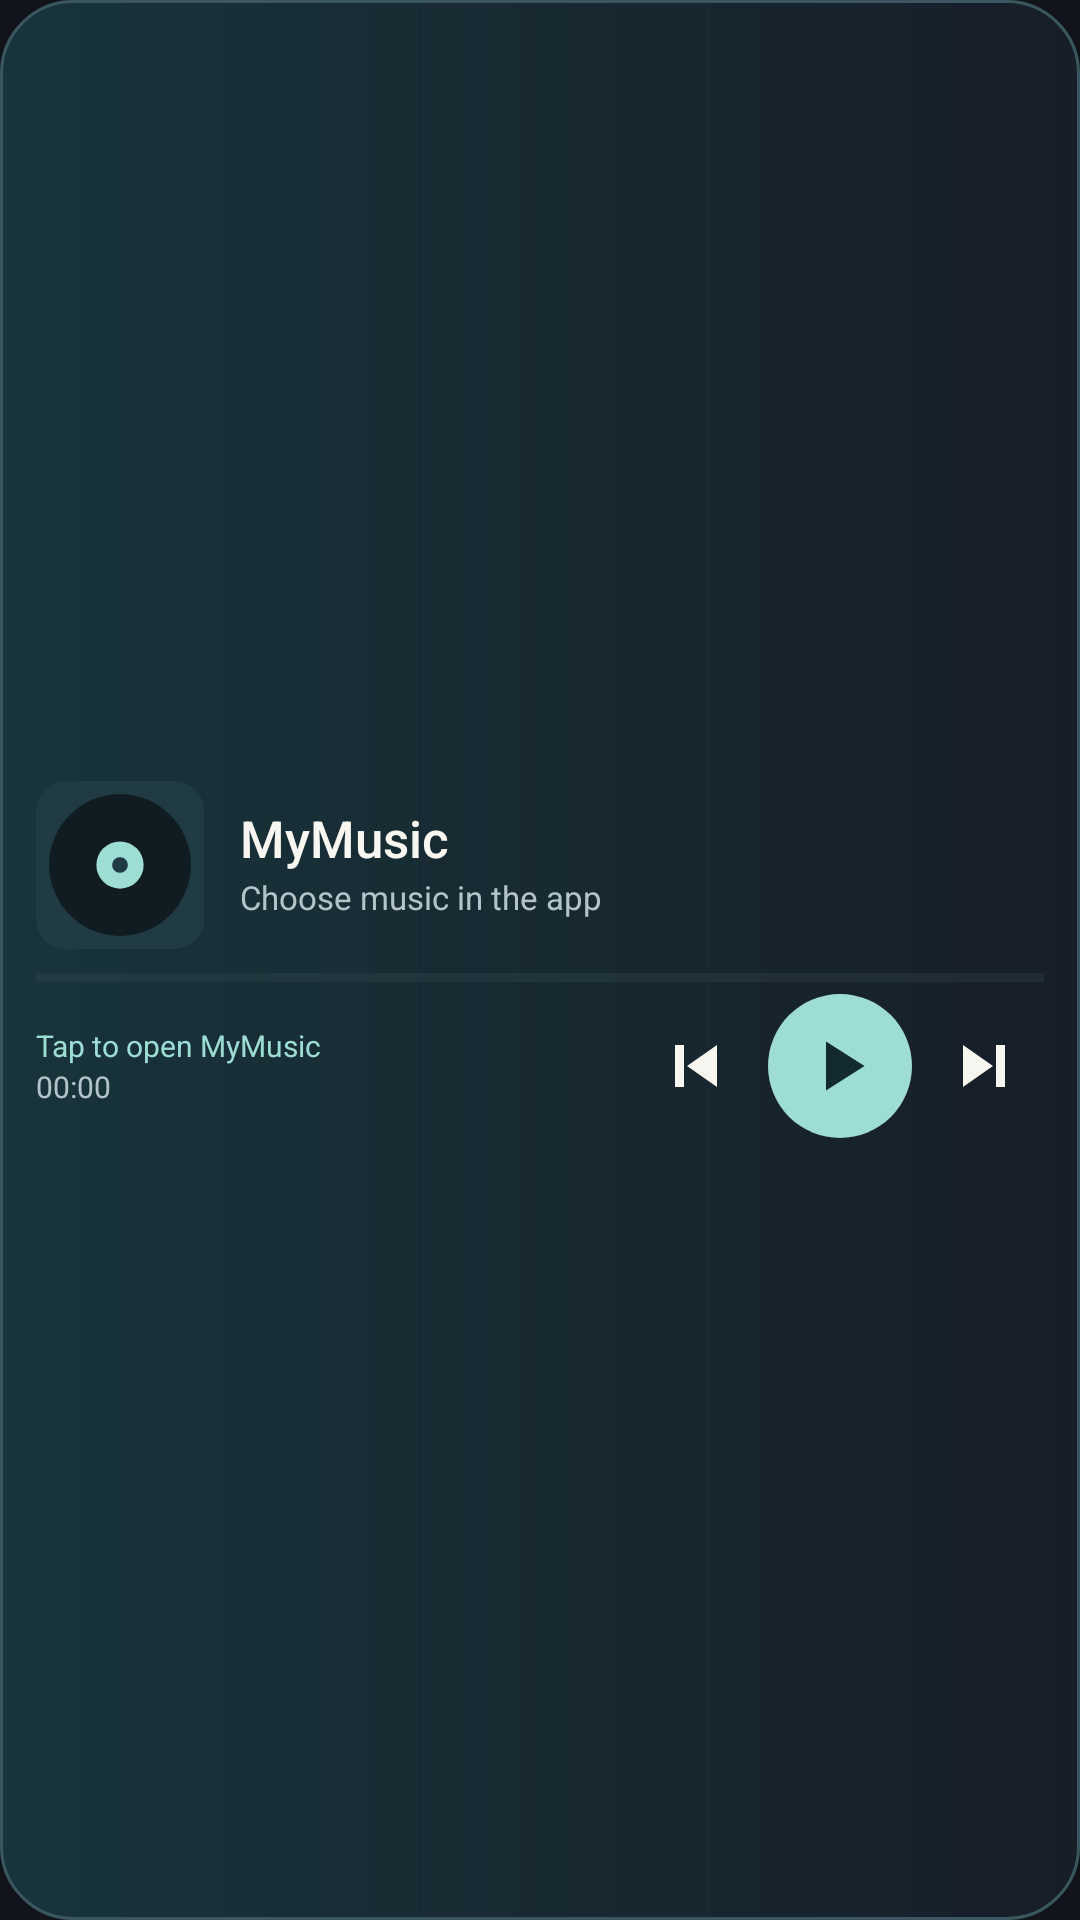

Named icons in this screenshot (1080px x 1920px) and their bounding boxes, region(x1, y1, x2, y2):
Album artwork: region(36, 781, 204, 949)
Next: region(963, 1045, 1005, 1087)
Play or pause: region(768, 994, 912, 1138)
Previous: region(675, 1045, 717, 1087)
